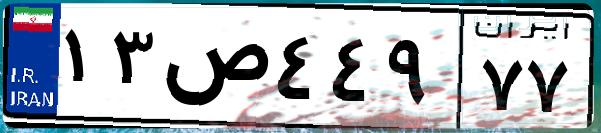1: (57, 26, 110, 100)
3: (110, 28, 158, 98)
4: (270, 28, 330, 110), (330, 28, 385, 110)
7: (475, 38, 525, 113), (525, 38, 570, 115)
9: (385, 28, 445, 110)
ص: (158, 20, 270, 120)
